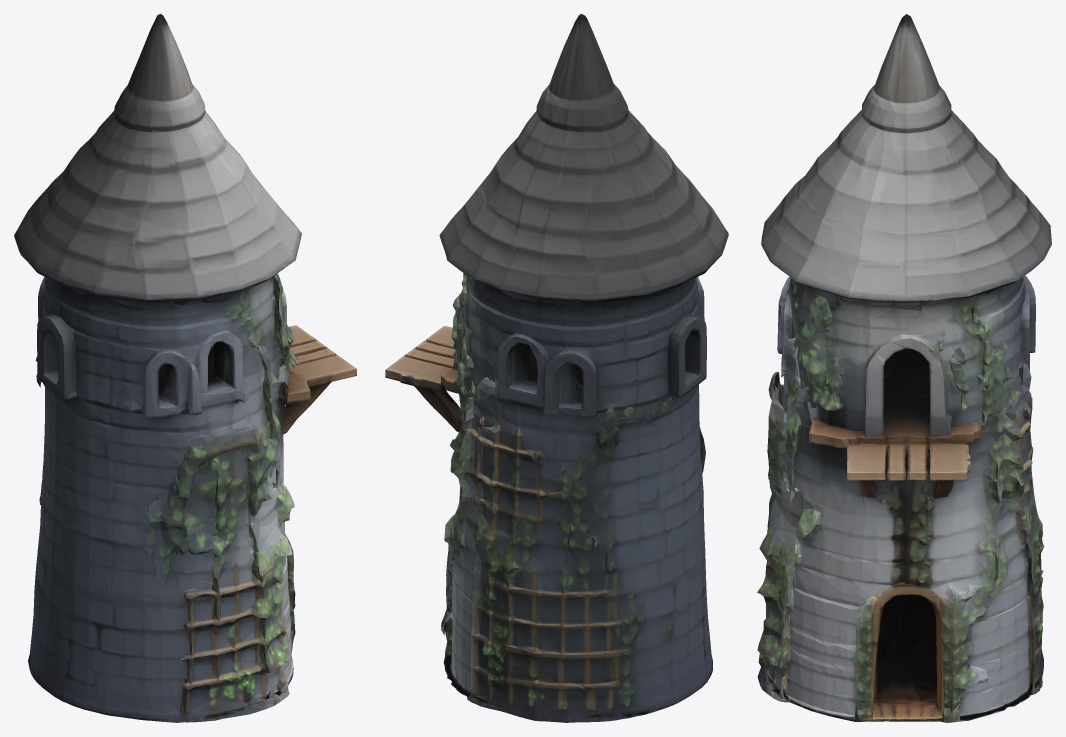
Rendered from sample.glb.
The picture shows the model from 3 angles, left to right: view 1: azimuth 30°, elevation 25°; view 2: azimuth 150°, elevation 25°; view 3: azimuth 270°, elevation 25°; orthographic projection.
Parts seen in each view (by area): view 1: world; view 2: world; view 3: world.
Part boxes in pixels (box(x1,y1,x2,y2)): world: box(14, 14, 356, 722); world: box(385, 14, 728, 722); world: box(757, 14, 1051, 722).
Size of the model in its own units: 0.472 by 1 by 0.4084.
Materials: 1 (1 with a texture image).
